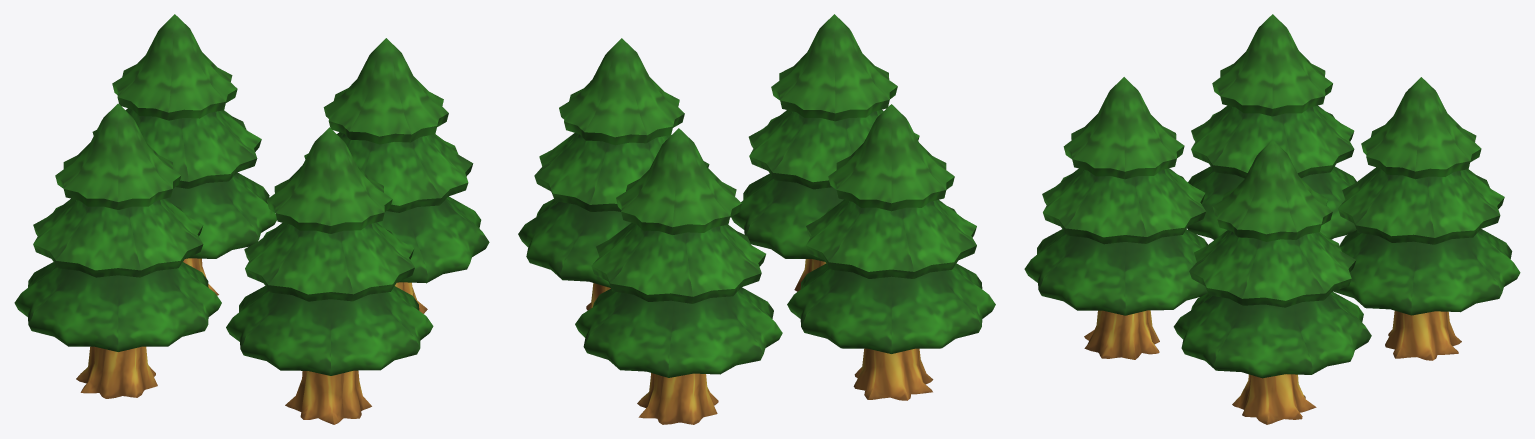
Rendered from Tree 6_HD.fbx.
The picture shows the model from 3 angles, left to right: view 1: azimuth 30°, elevation 25°; view 2: azimuth 150°, elevation 25°; view 3: azimuth 270°, elevation 25°; orthographic projection. The views are drawn at different scales.
Parts seen in each view (by area): view 1: tree6; view 2: tree6; view 3: tree6.
Boxes of the visible parts, bbox=[...] form: tree6: bbox=[14, 14, 489, 424]; tree6: bbox=[518, 14, 995, 424]; tree6: bbox=[1024, 14, 1520, 424].
Size of the model in its own units: 3.34 by 1.99 by 3.34.
